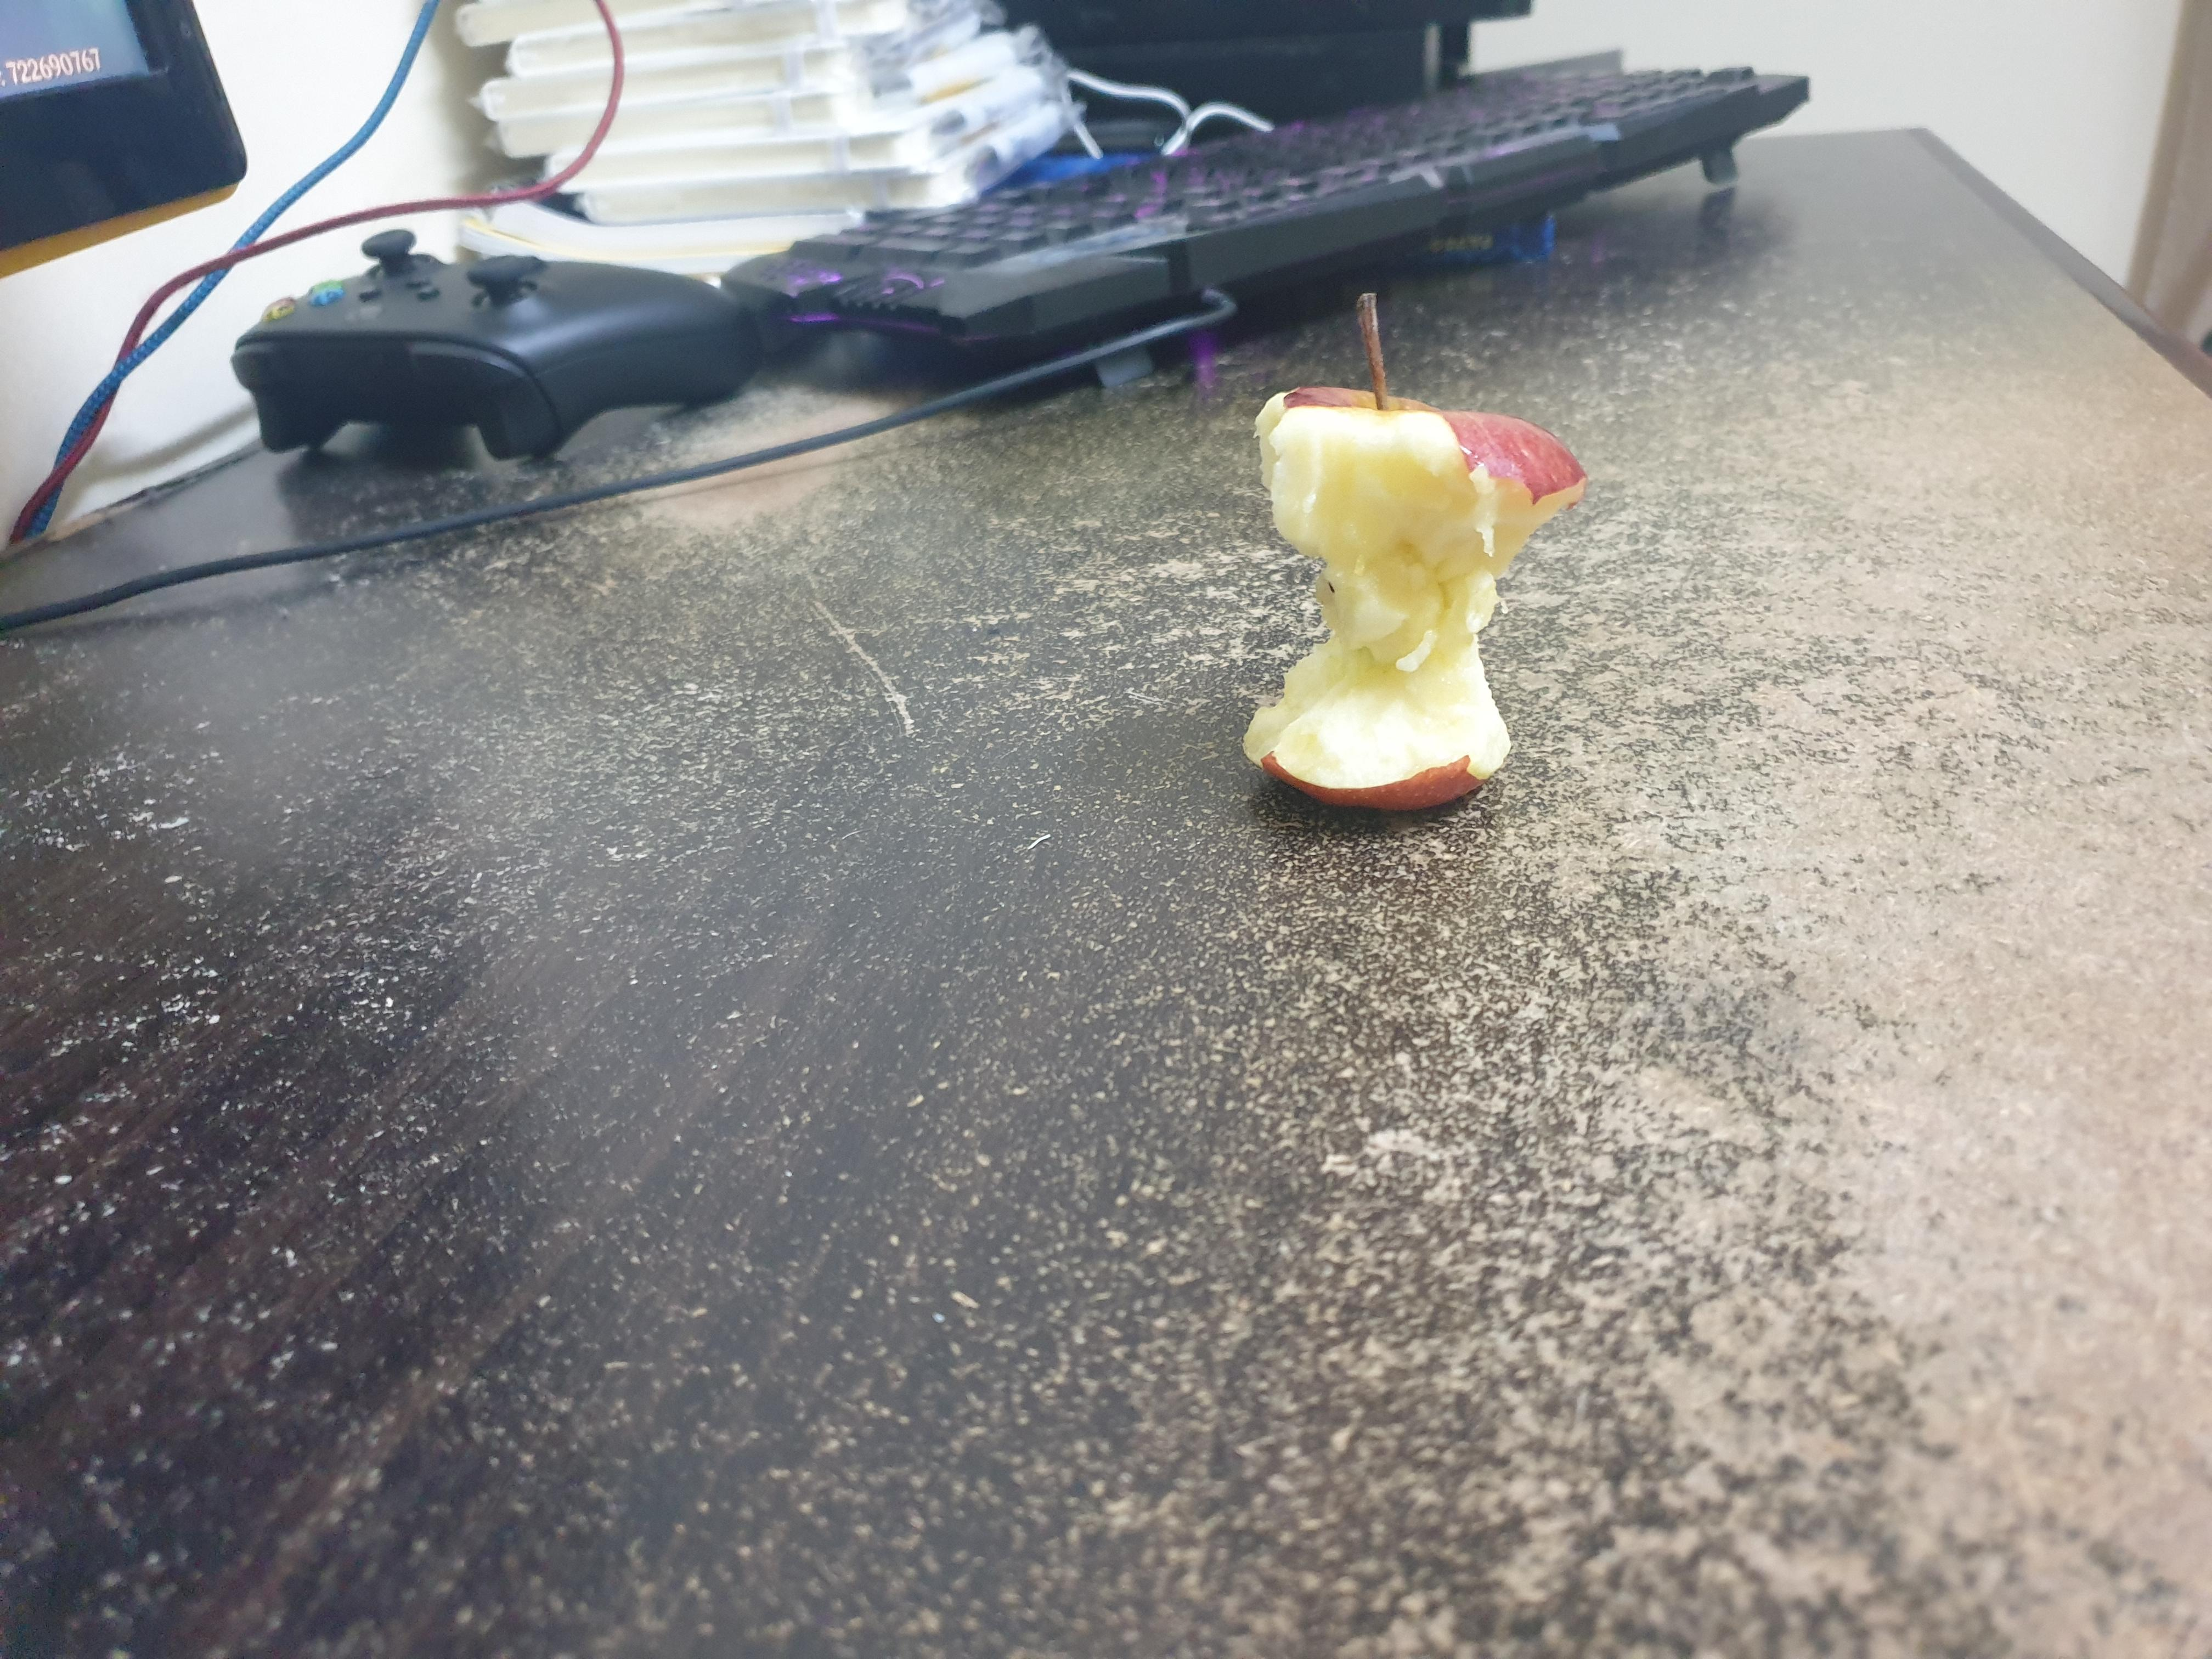Apple: (1217, 275, 1597, 847)
